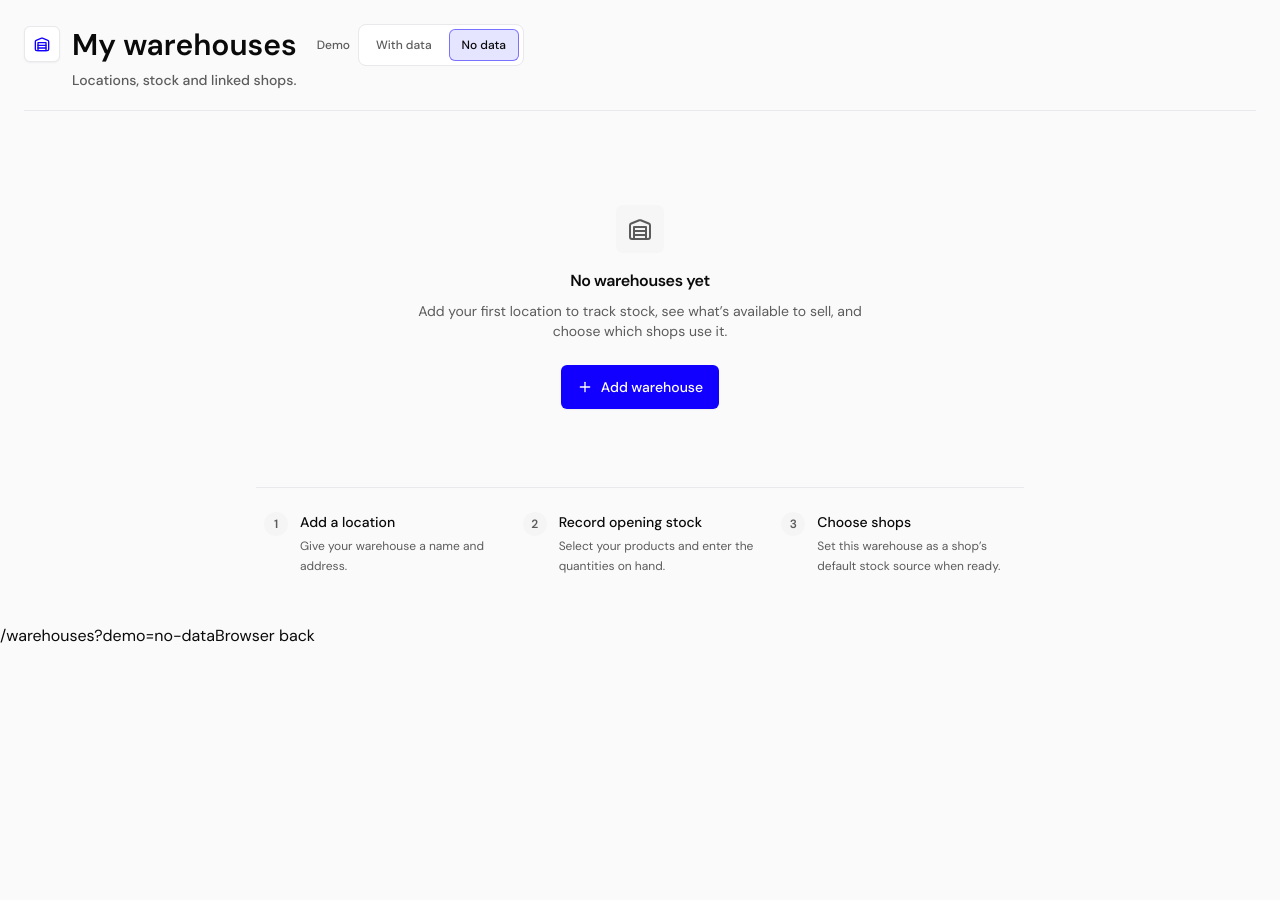
warehouse demo modes and first warehouse › cancels creation back to the empty state without writing a warehouse
The image size is (1280, 900).
Step 1. Click the button "Add warehouse" → coordinates (640, 387), box x1=561 y1=365 x2=719 y2=409
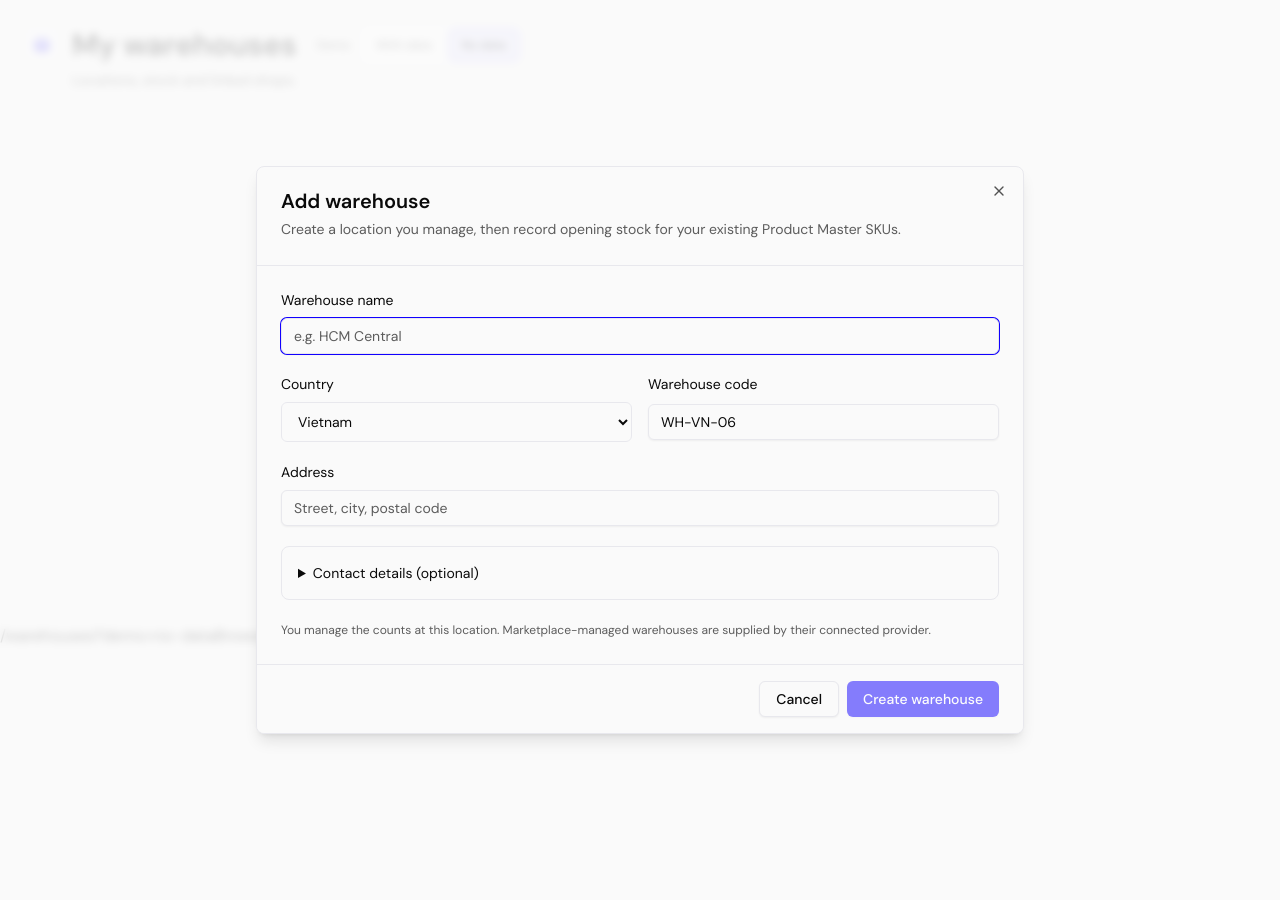
Step 2. Type "Cancelled warehouse" into the field labelled "Warehouse name" → coordinates (640, 336), box x1=281 y1=318 x2=999 y2=354
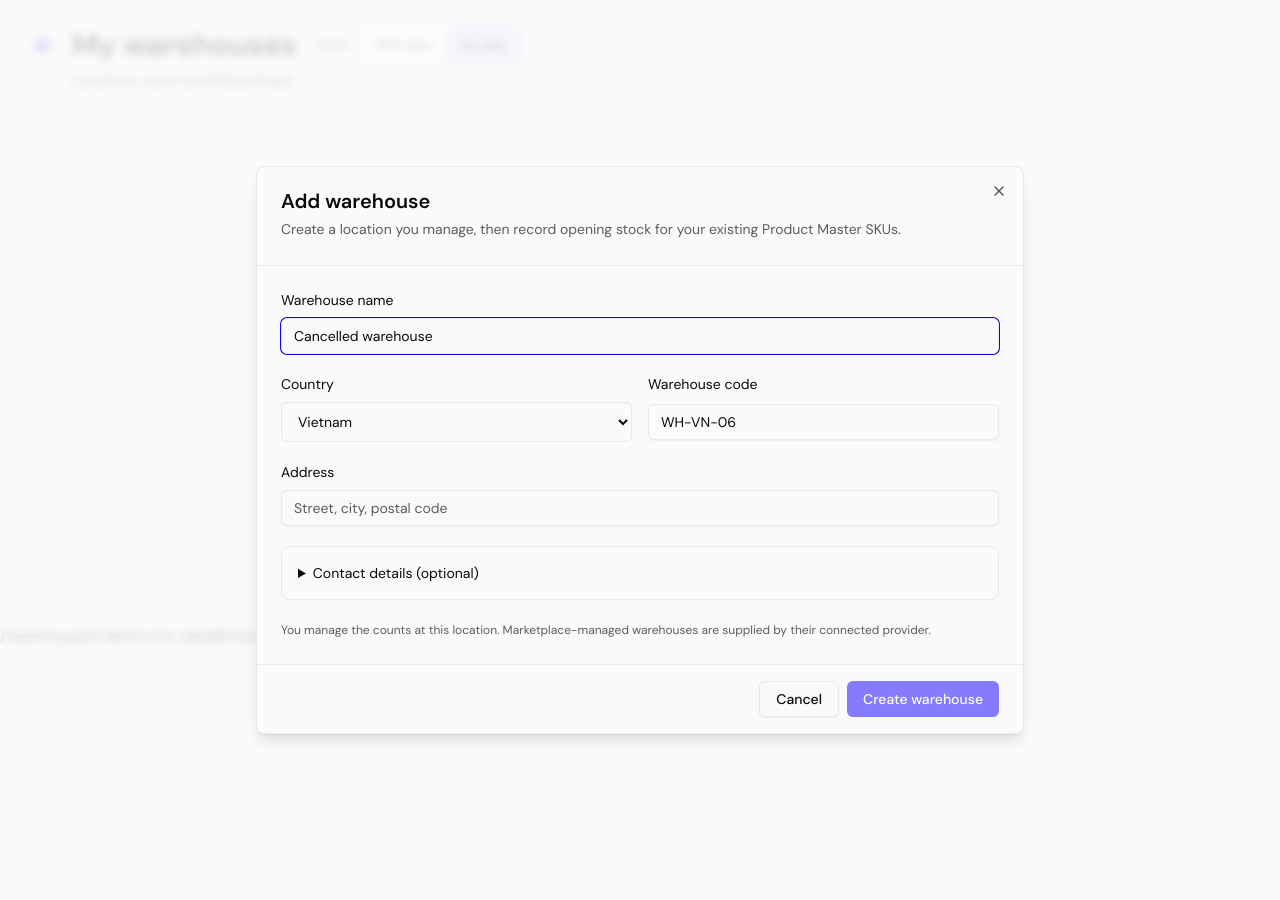
Step 3. Click the button "Cancel" → coordinates (799, 699), box x1=759 y1=681 x2=839 y2=717
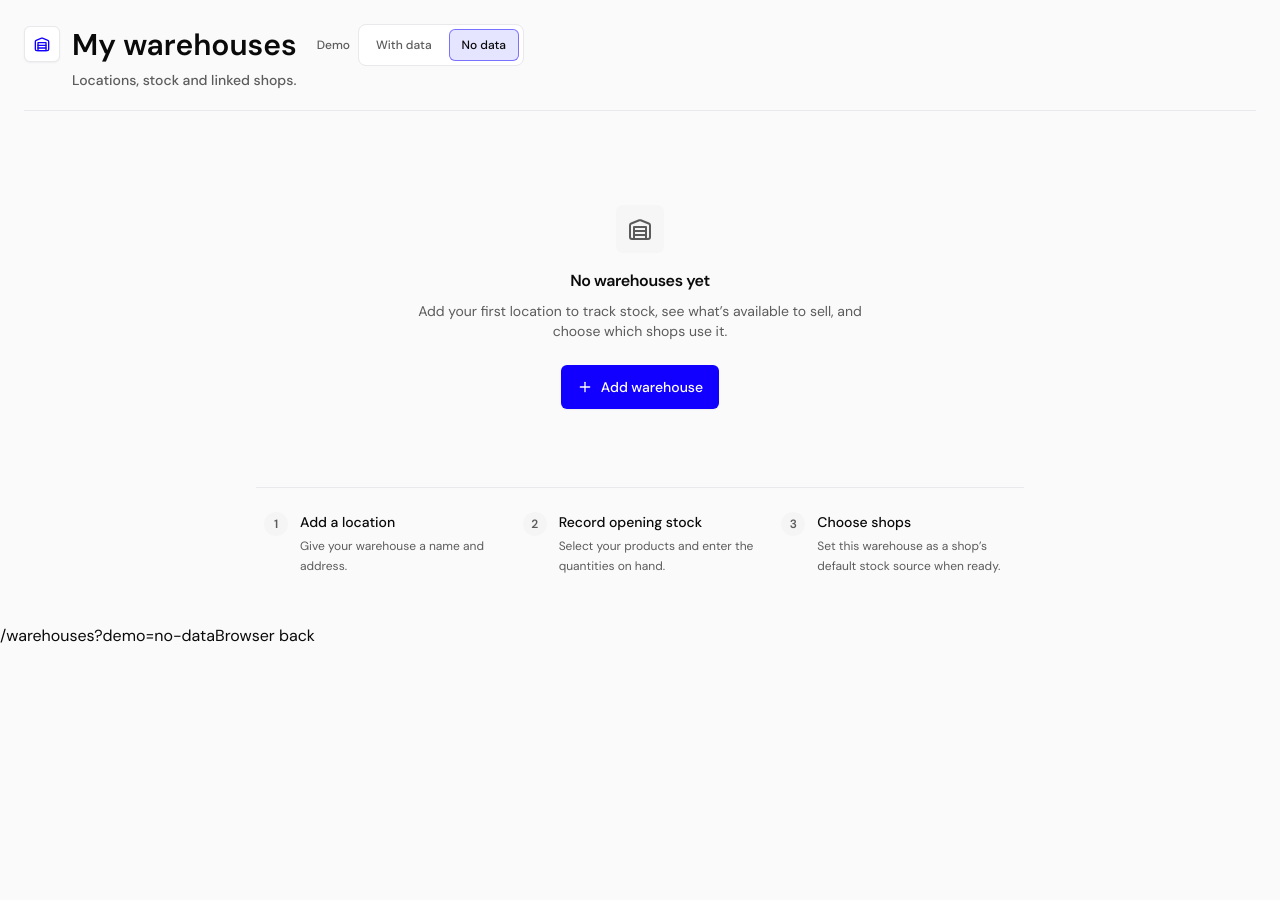
Check: the heading "No warehouses yet" is shown, box x1=570 y1=269 x2=710 y2=293
Check: the dialog is gone
